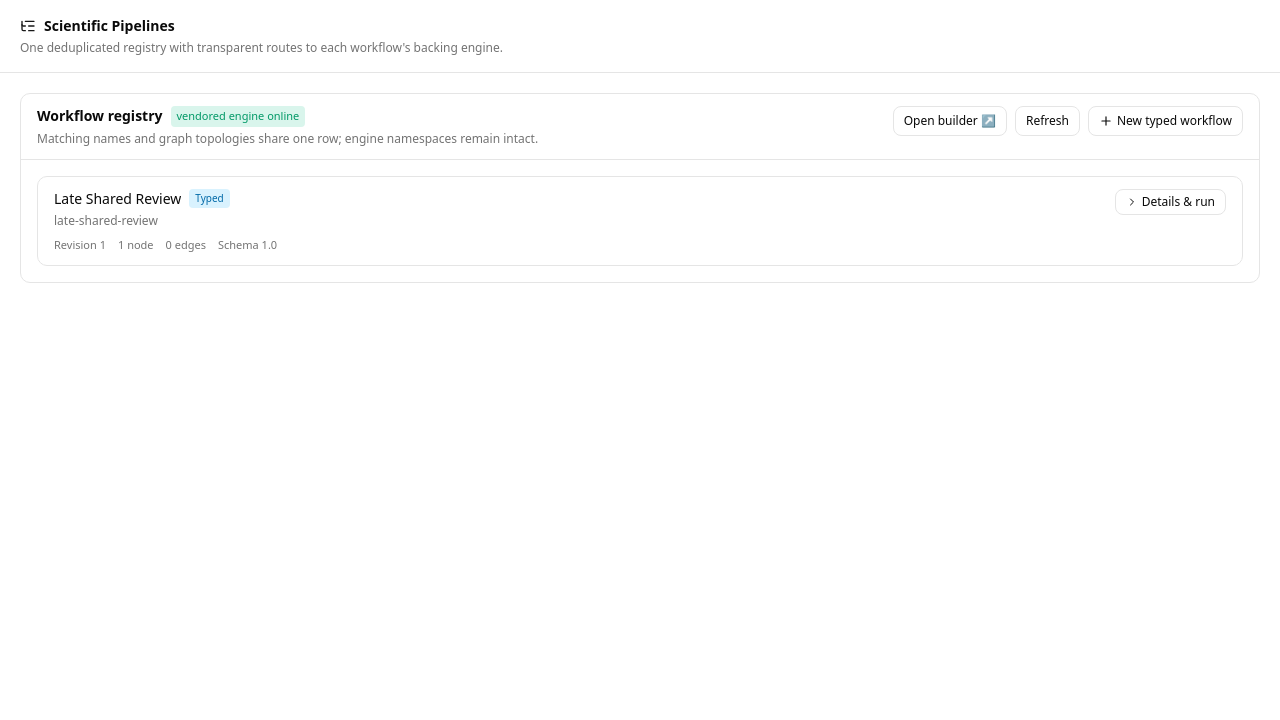
Test: DagWorkflowsPanel › publishes runnable typed rows while vendored loading hangs, then deduplicates late data
The width and height of the screenshot is (1280, 720).
Expected: the text "Late Shared Review" is shown, top-left (54, 188), bottom-right (181, 208)
Expected: the text "Typed" is shown, top-left (189, 189), bottom-right (230, 208)
Click the button with aria-label "Open Late Shared Review details": click(1170, 202) top-left (1115, 188), bottom-right (1226, 214)
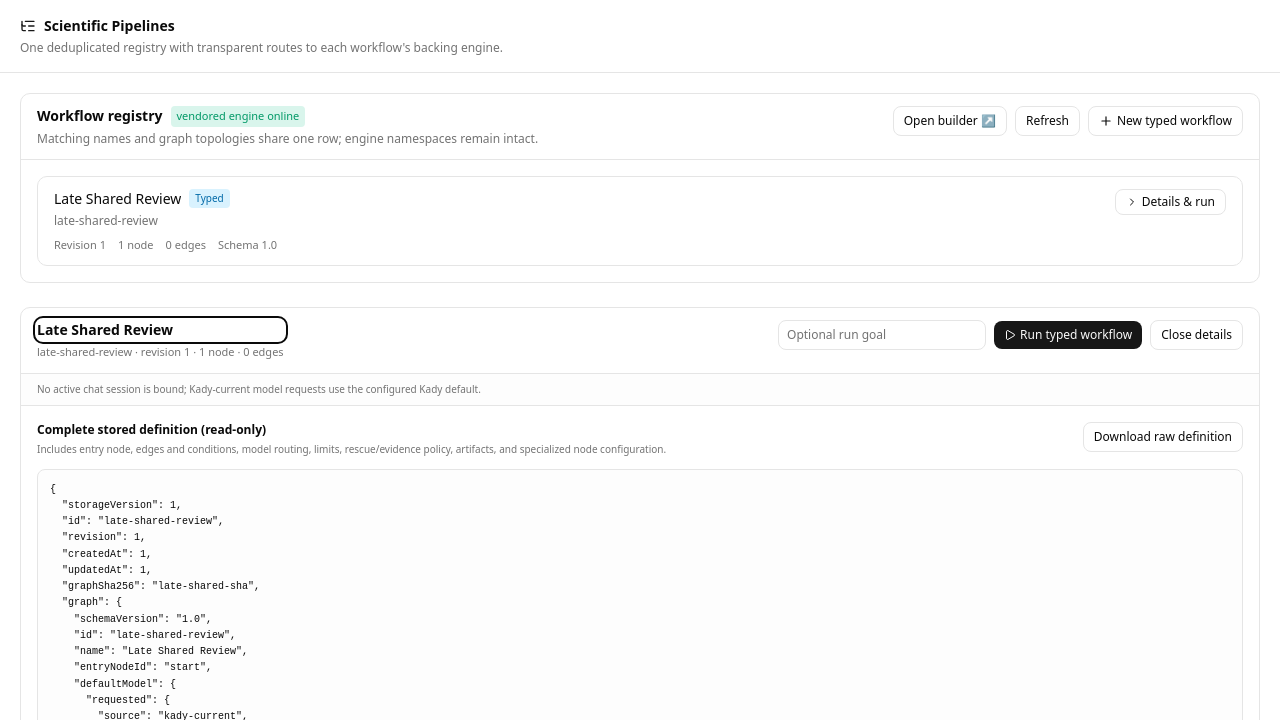
Expected: the button "Run typed workflow" is enabled
Click the button "Run typed workflow": click(1068, 335) top-left (994, 321), bottom-right (1142, 349)
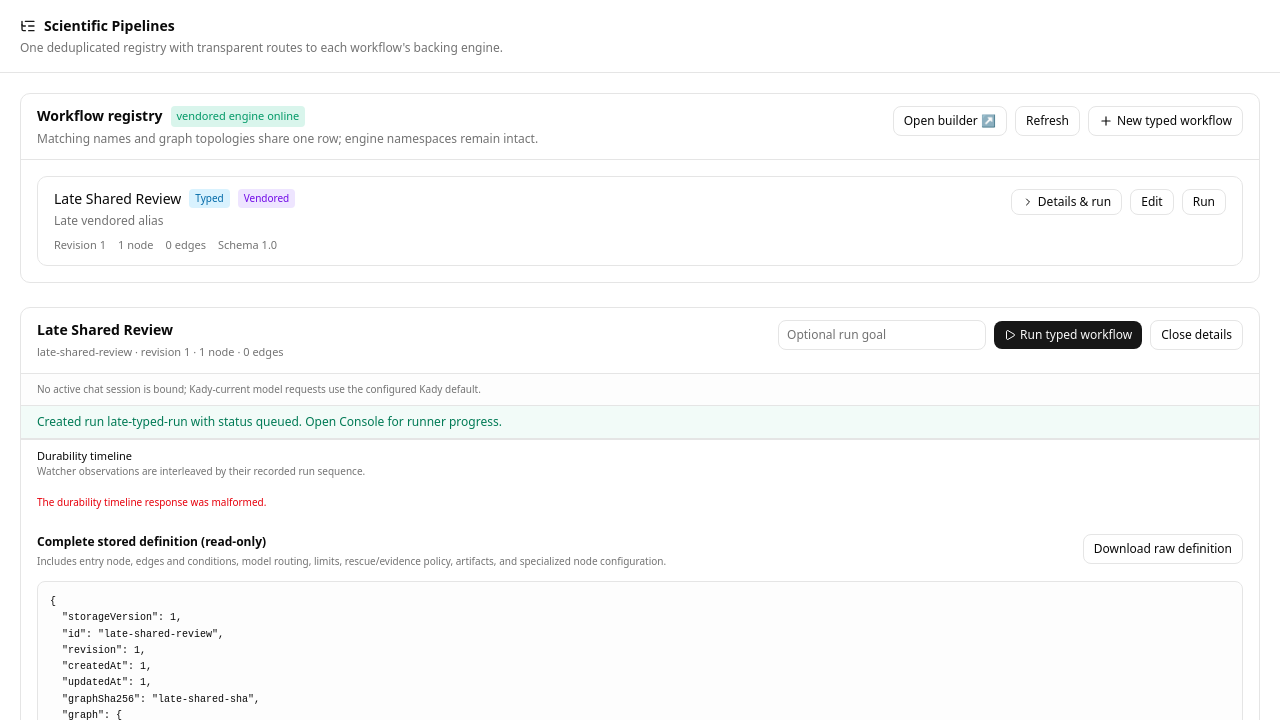
Expected: the number of list items is 1, top-left (38, 176), bottom-right (1242, 265)
Expected: the text "Vendored" is shown, top-left (238, 189), bottom-right (295, 208)
